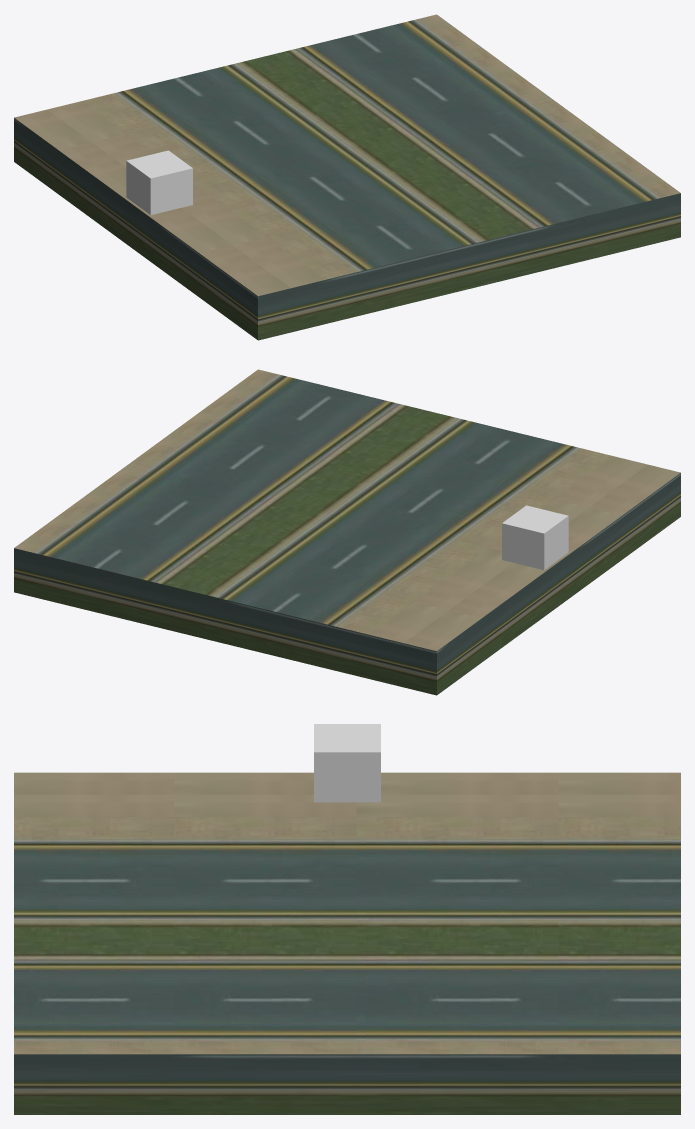
File: ground.glb
3 views of the same model, one above another, from view 1: azimuth 30°, elevation 25°; view 2: azimuth 150°, elevation 25°; view 3: azimuth 270°, elevation 25° (orthographic). The views are drawn at different scales.
Visible parts, largest first — view 1: Cube, box; view 2: Cube, box; view 3: Cube, box.
Part boxes in pixels (left/top/right/bottom): Cube: left=14, top=14, right=680, bottom=340; box: left=126, top=150, right=192, bottom=214; Cube: left=14, top=369, right=680, bottom=695; box: left=502, top=505, right=568, bottom=569; Cube: left=14, top=772, right=680, bottom=1114; box: left=314, top=724, right=380, bottom=802.
Size of what is drawn, in the model's own units: 20 by 3.66 by 20.
Materials: 1 (1 with a texture image).
